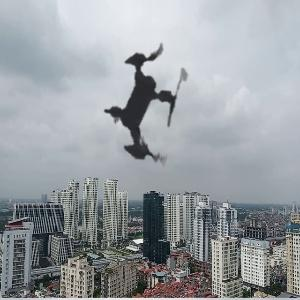drone: (51, 9, 238, 196)
